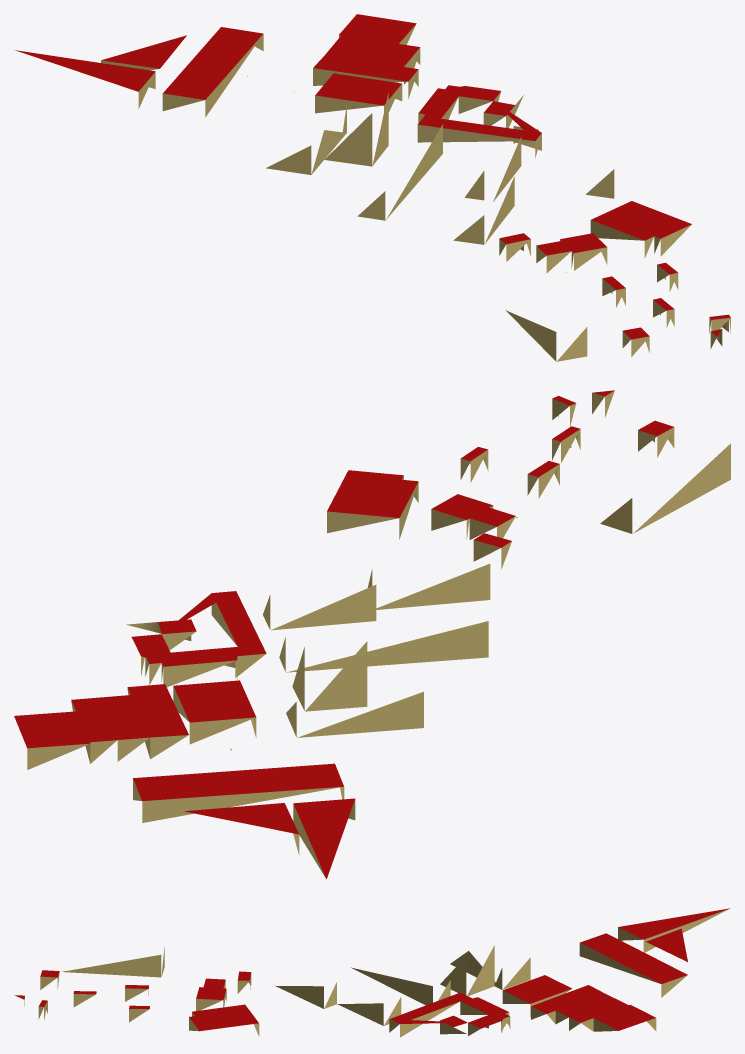
3 renders of one model, top to bottom at view 1: azimuth 30°, elevation 25°; view 2: azimuth 150°, elevation 25°; view 3: azimuth 270°, elevation 25°, orthographic. The views are drawn at different scales.
Bounding box in the file's own units: 148 × 22.5 × 356.
